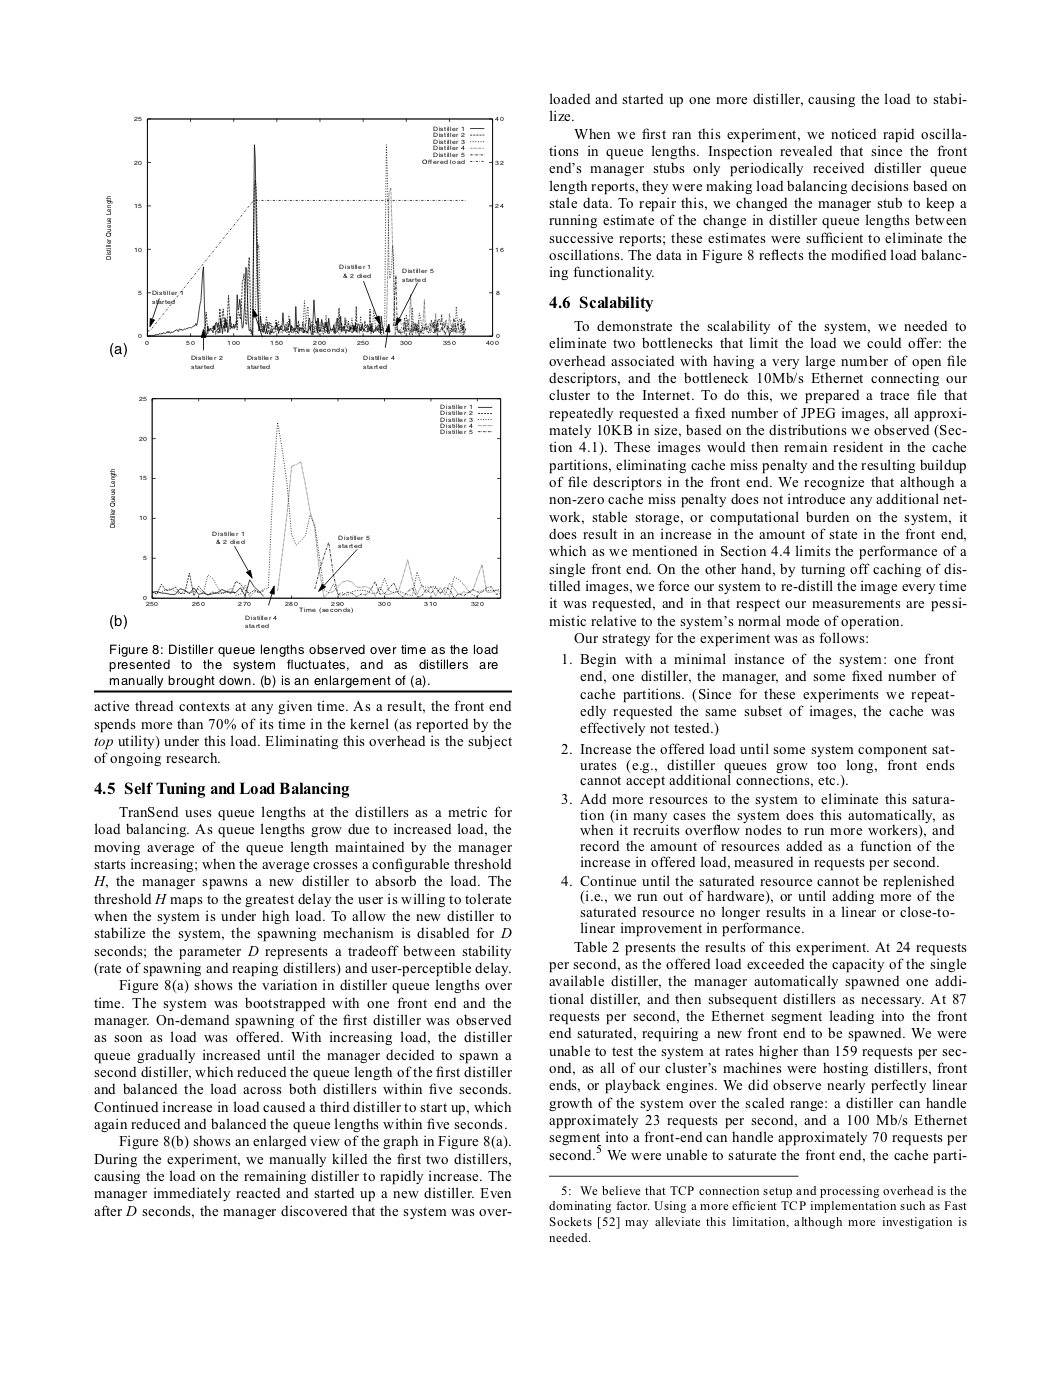figure: (105, 115, 503, 360), (109, 395, 502, 629), (94, 690, 512, 692)
